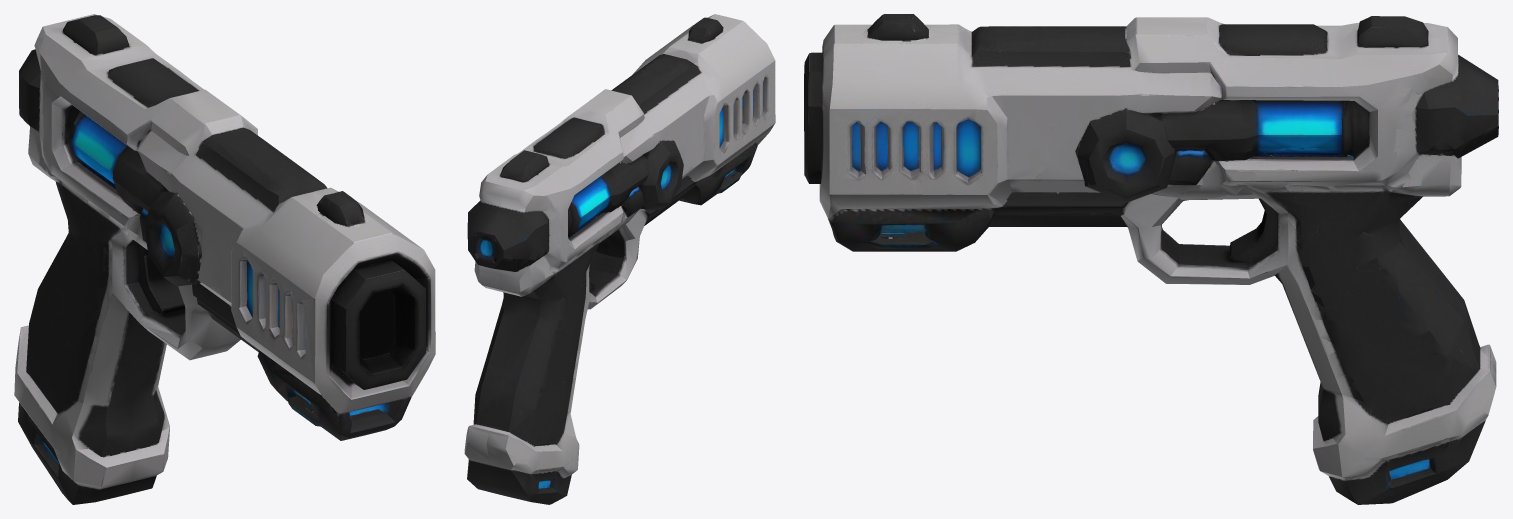
The model's file is sci_fi_blaster_pistol_low.glb.
The picture shows the model from 3 angles, left to right: view 1: azimuth 30°, elevation 25°; view 2: azimuth 150°, elevation 25°; view 3: azimuth 270°, elevation 25°; orthographic projection. The views are drawn at different scales.
Parts seen in each view (by area): view 1: world; view 2: world; view 3: world.
Boxes of the visible parts, x1,y1,x2,y2 form: world: (14, 14, 435, 504); world: (464, 14, 775, 504); world: (804, 14, 1498, 504).
Size of the model in its own units: 0.2198 by 0.7471 by 1.
1 material, 1 textured.
